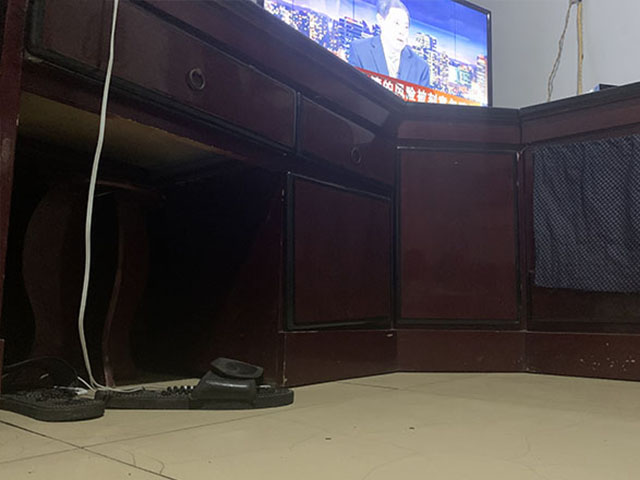cabinet: (398, 80, 638, 382), (282, 54, 397, 384)
slippers: (100, 358, 294, 413), (1, 356, 108, 423)
wire: (77, 1, 128, 395)
